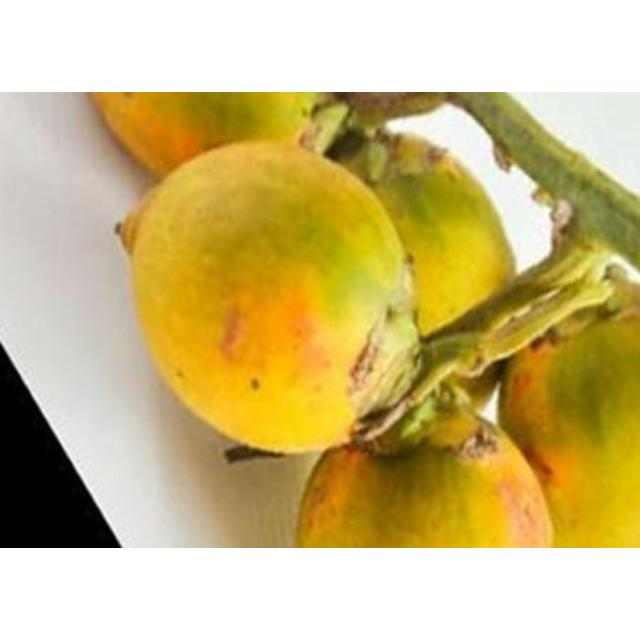good: (125, 144, 411, 452), (333, 132, 511, 344), (501, 296, 639, 546), (296, 422, 554, 546), (80, 93, 322, 179)
